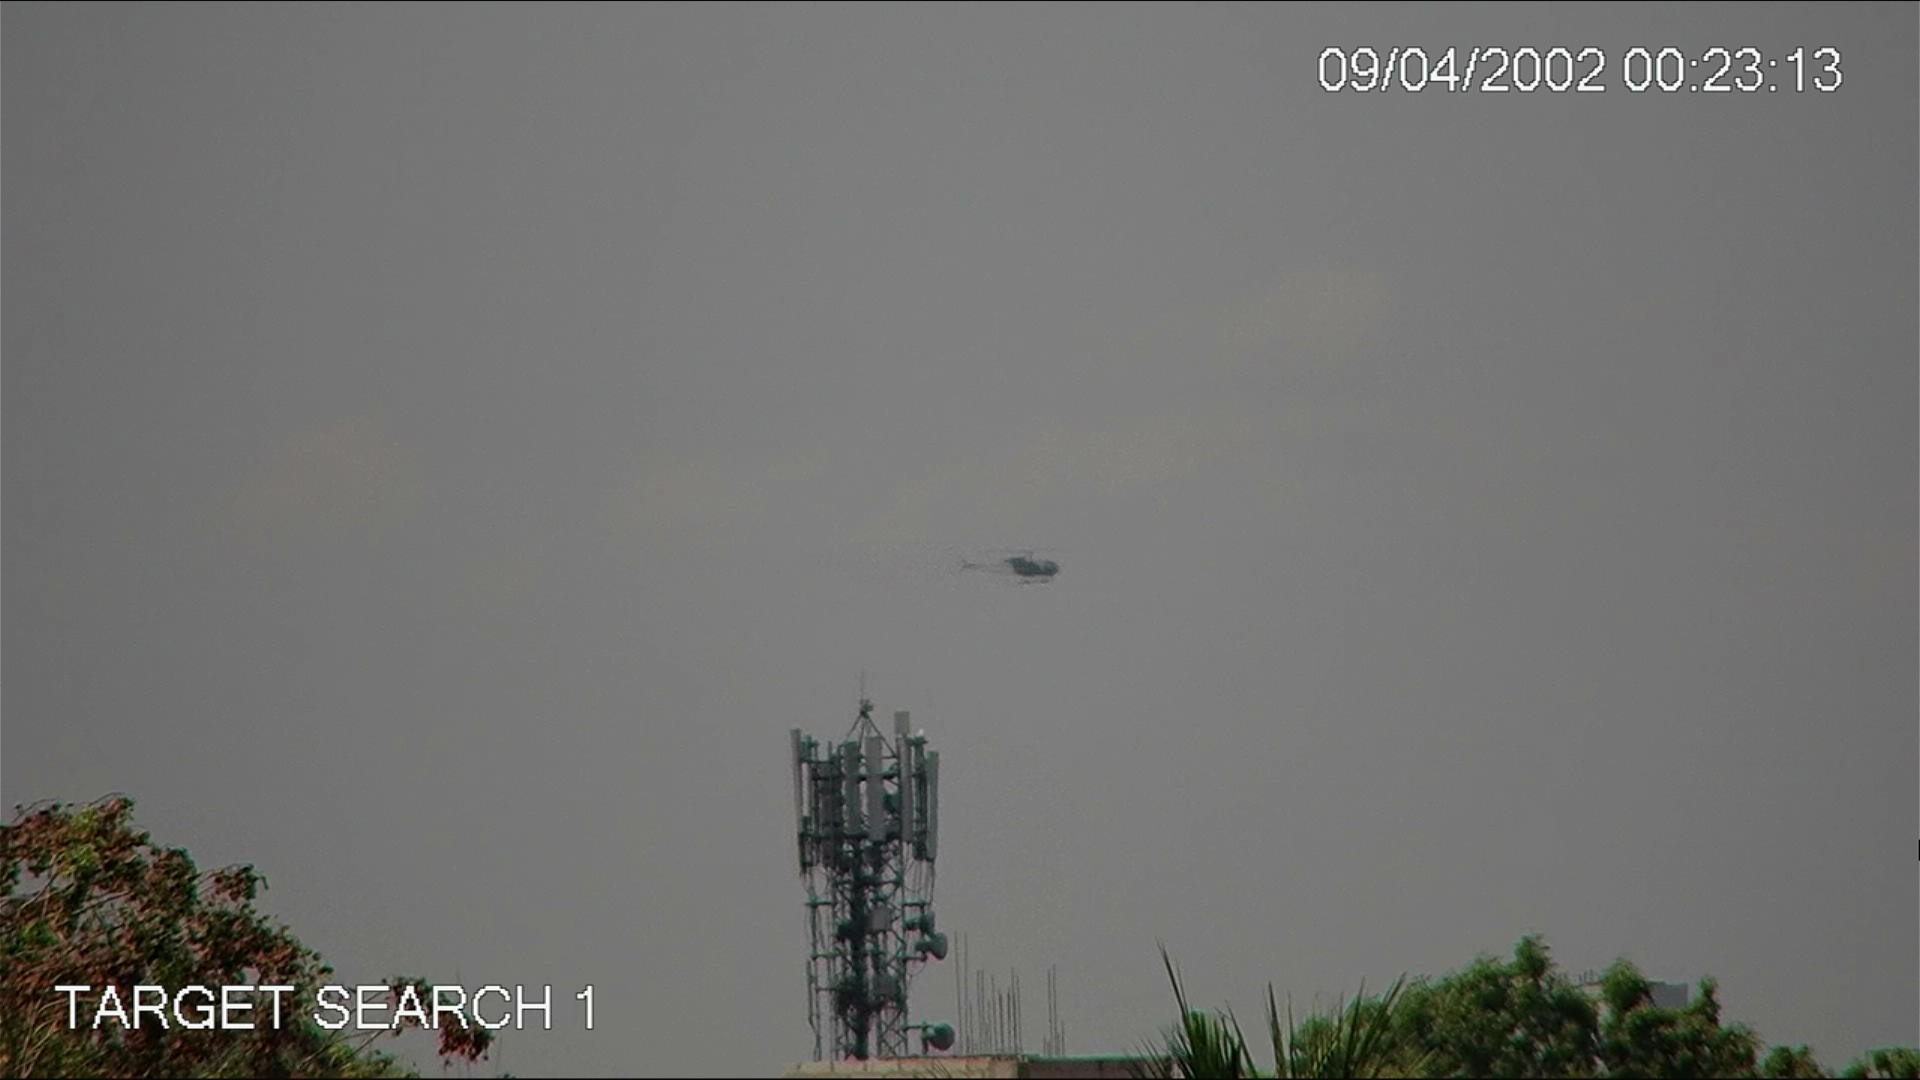SU_30: (959, 535, 1052, 592)
